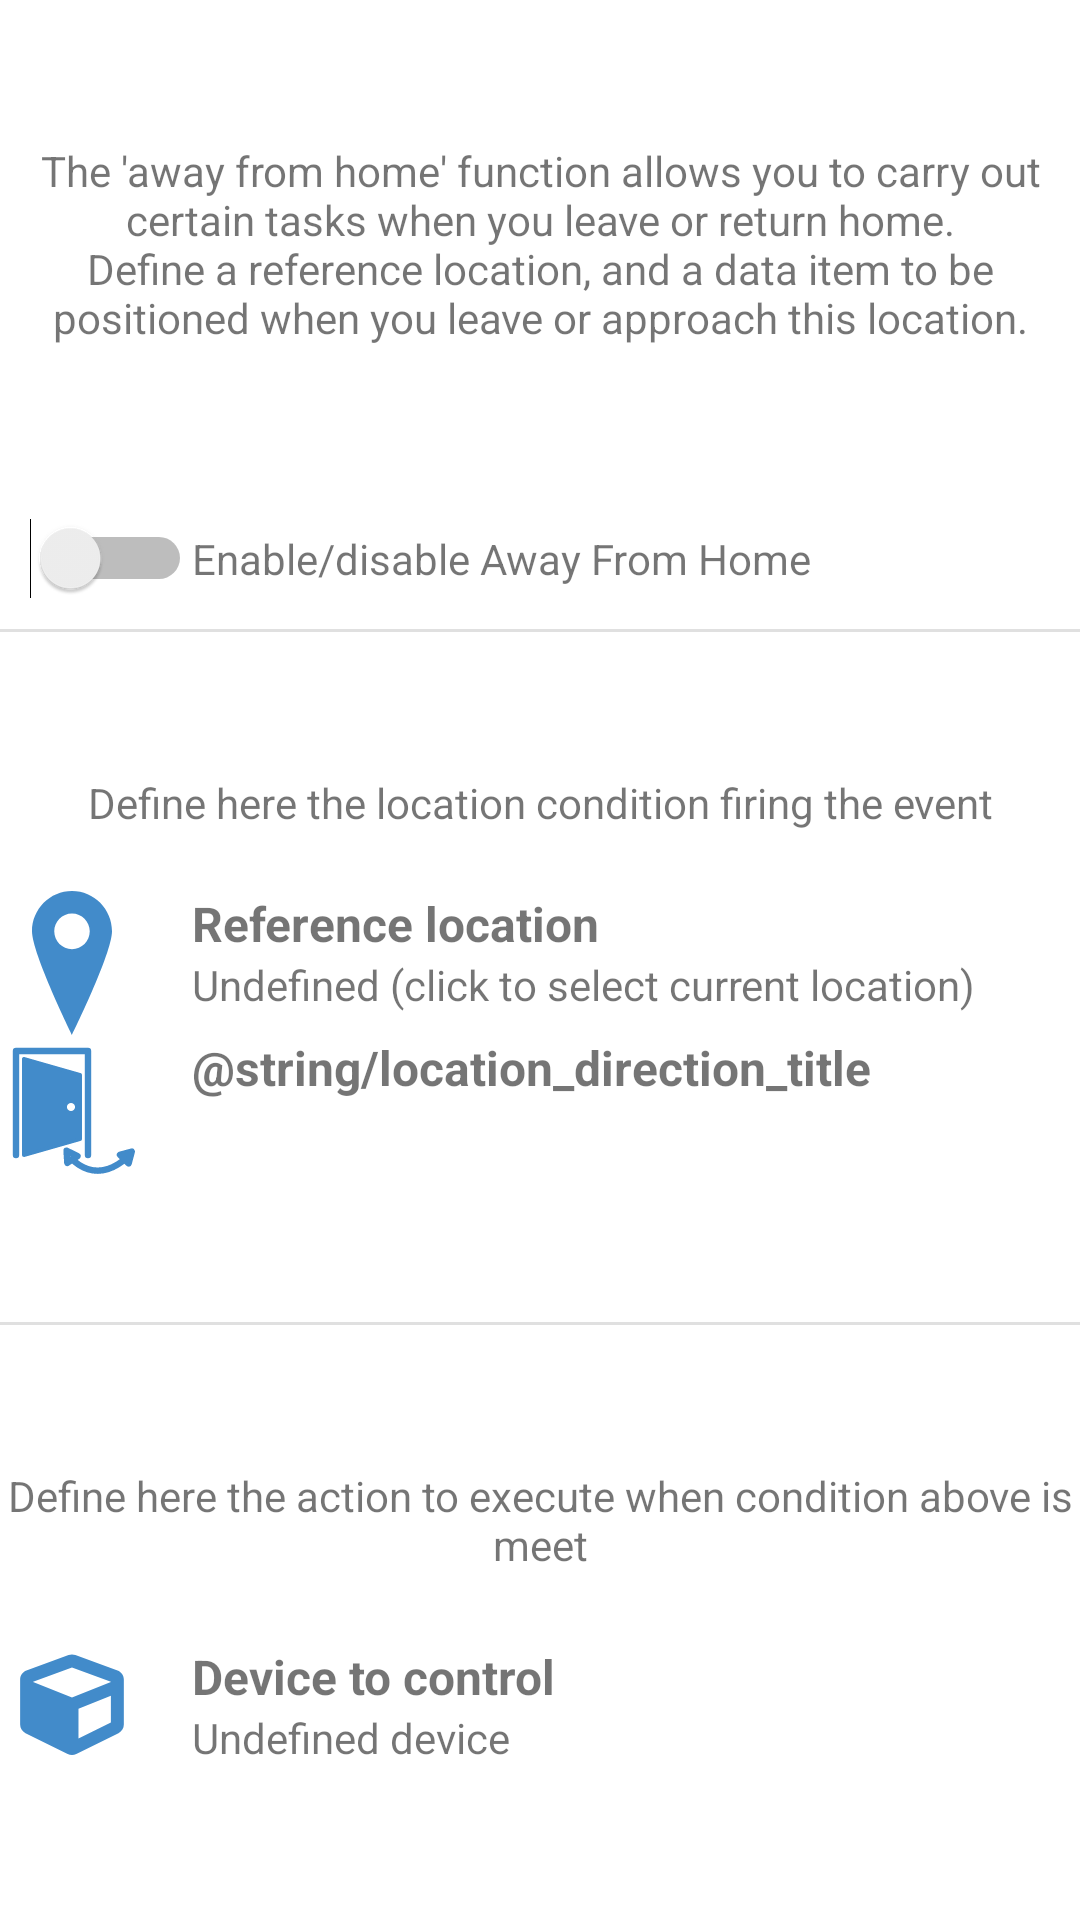

Named icons in this screenshot (1080*1920) and their centers, [x,y]:
location pin: [72,963]
